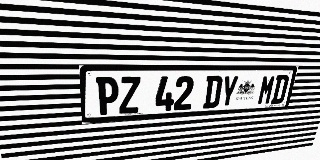2: (173, 76, 194, 110)
4: (155, 76, 176, 112)
D: (203, 75, 223, 109), (270, 75, 290, 104)
M: (257, 75, 277, 105)
P: (96, 77, 119, 115)
Y: (219, 75, 239, 108)
Z: (119, 76, 141, 114)
